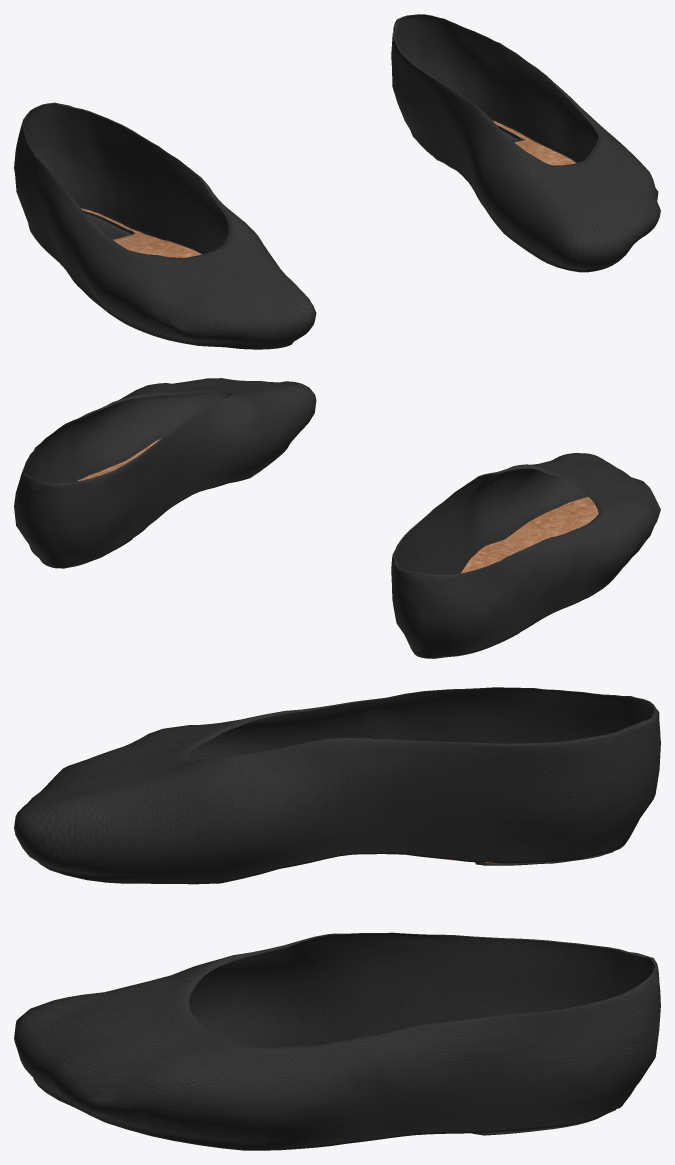
Rendered from shoes_flats.gltf.
The picture shows the model from 3 angles, top to bottom: view 1: azimuth 30°, elevation 25°; view 2: azimuth 150°, elevation 25°; view 3: azimuth 270°, elevation 25°; orthographic projection. The views are drawn at different scales.
Visible parts, largest first — view 1: shoes_flats; view 2: shoes_flats; view 3: shoes_flats.
Part boxes in pixels (box(x1,y1,x2,y2)): shoes_flats: box(14, 14, 660, 349); shoes_flats: box(14, 378, 660, 658); shoes_flats: box(14, 687, 660, 1150).
Size of the model in its own units: 0.329 by 0.0606 by 0.2443.
1 material, 1 textured.
